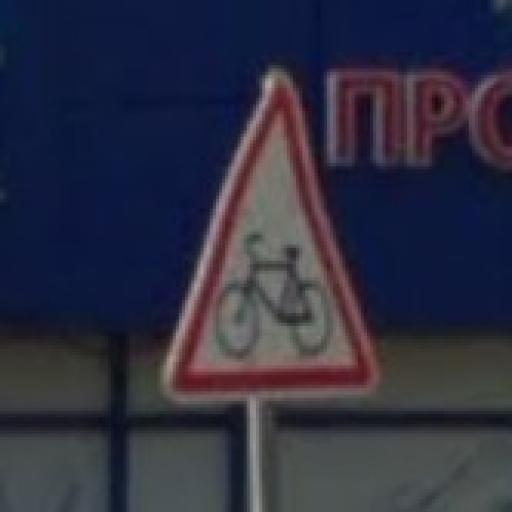traffic_sign: (162, 66, 384, 402)
